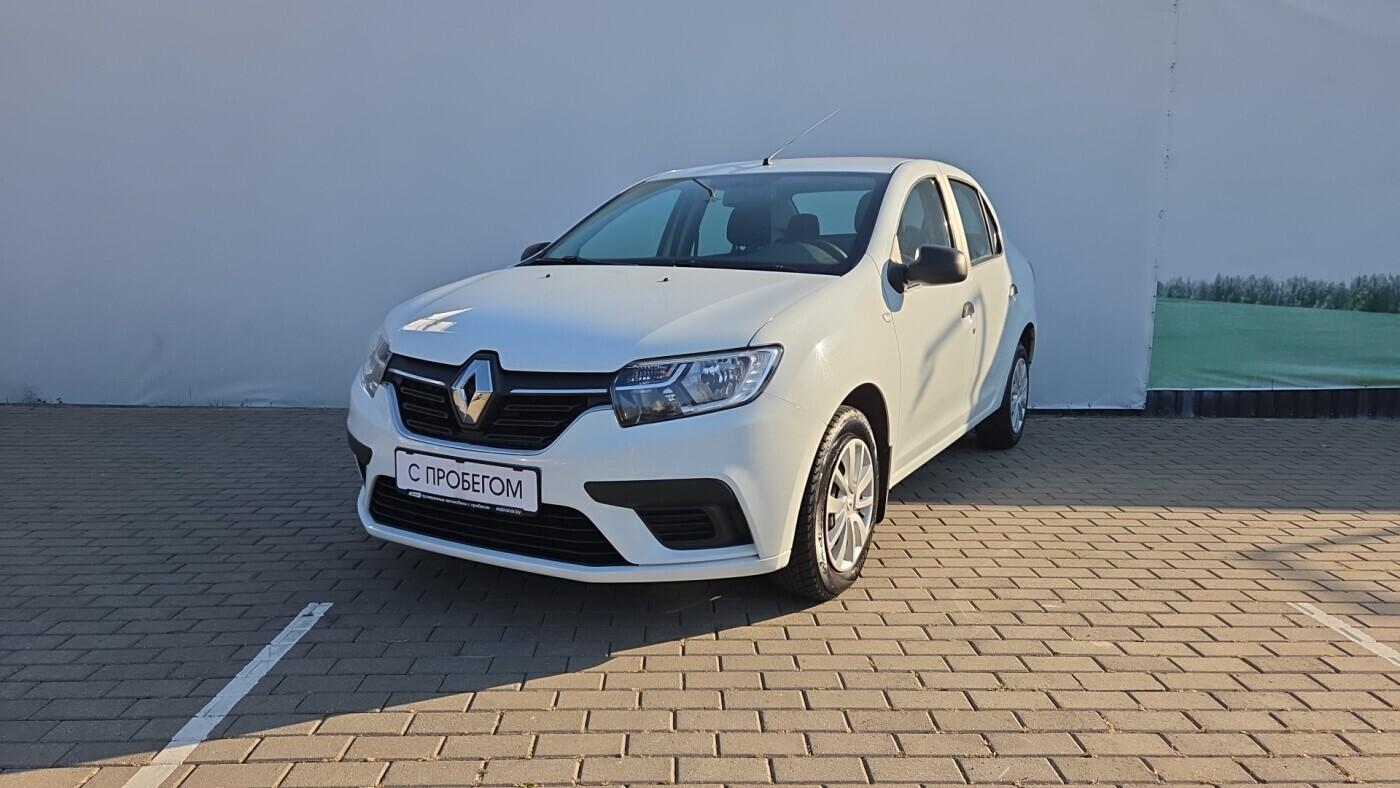Logan_2018: (344, 145, 1042, 612)
